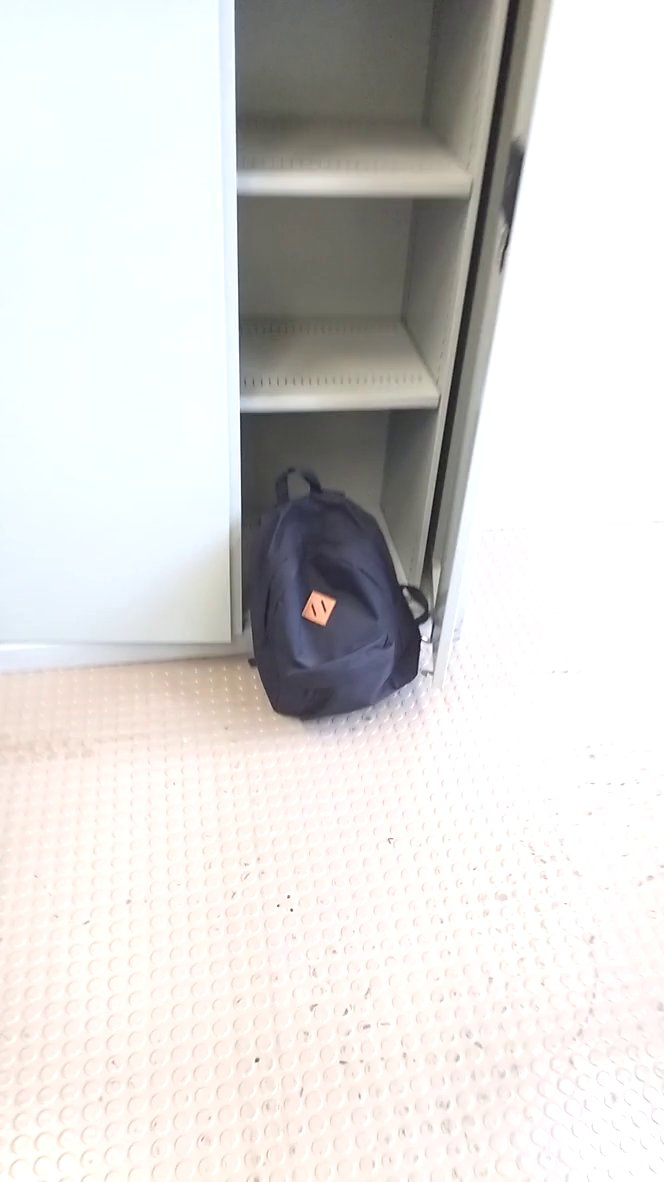bag: (233, 458, 438, 731)
